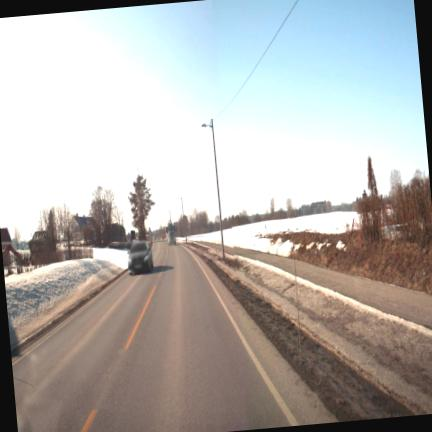Road: (12, 242, 334, 431)
